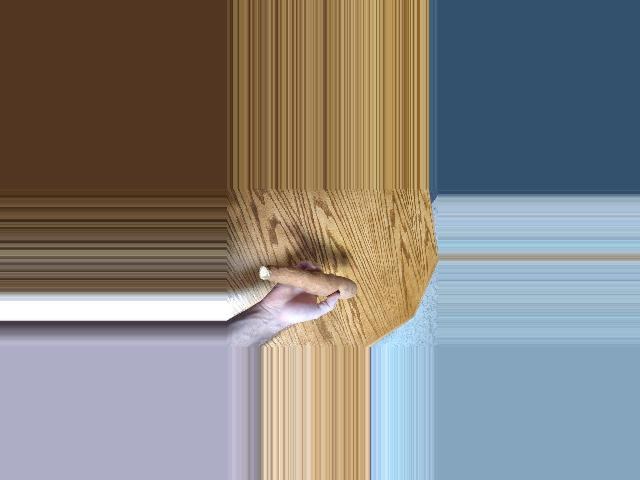sweet_potato: (255, 267, 362, 292)
